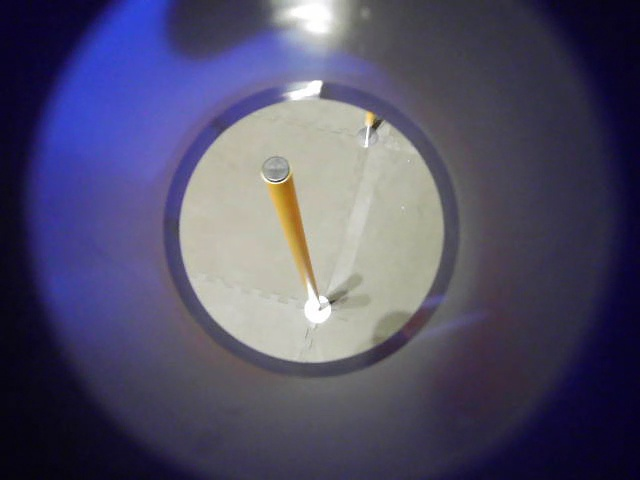tip: (252, 147, 301, 203)
